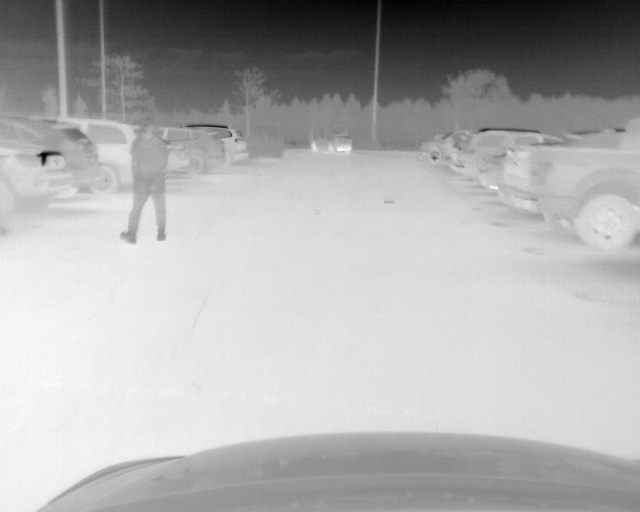car: (501, 120, 640, 252), (2, 114, 100, 197), (1, 141, 73, 222), (476, 129, 571, 189), (69, 118, 142, 191), (451, 128, 563, 174), (154, 124, 227, 175), (189, 124, 248, 173), (414, 129, 472, 164), (310, 133, 353, 156)
people: (116, 118, 168, 244)
